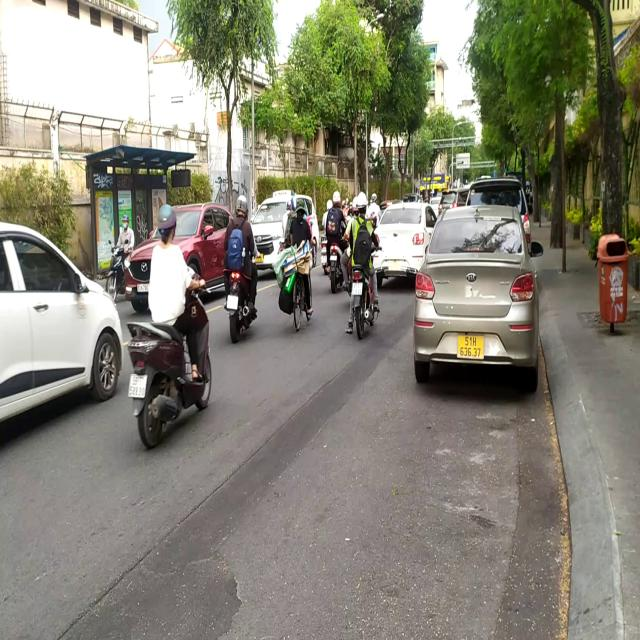bien_vang: (457, 336, 484, 364)
